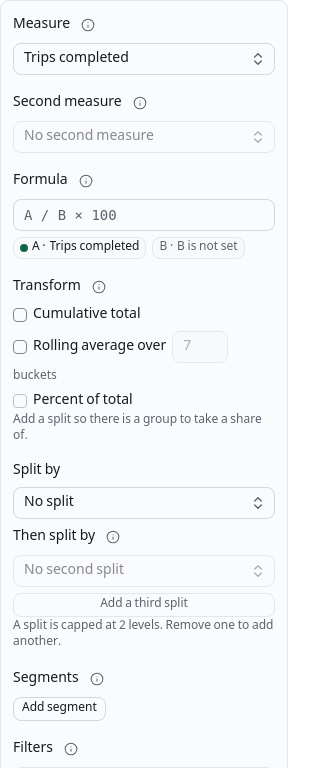
Scenario: split by — a second level (WP-2.6b gap 3, G4) › is disabled in place with a reason until a first split exists
Expected: the dropdown named "Then split by" is disabled, [13,555,275,587]
Hover over the button named "What this means" next to "Then split by": (113, 537) [101,525,125,549]
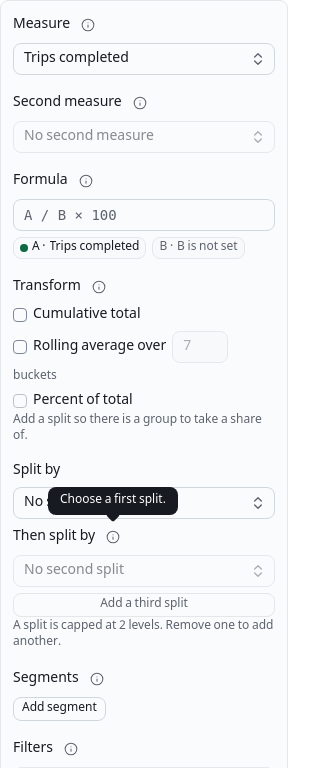
Expected: the tooltip reads "Choose a first split.", [60,490,166,511]
